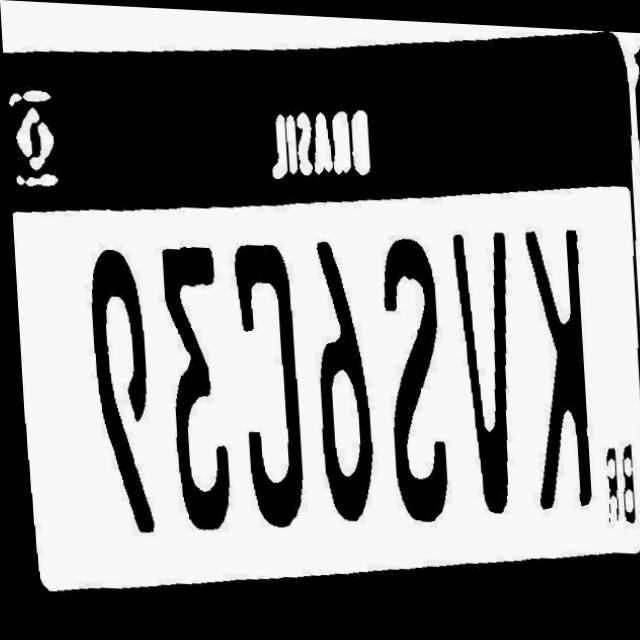3: (149, 225, 230, 536)
6: (305, 226, 375, 527)
9: (85, 212, 164, 534)
c: (224, 226, 314, 532)
k: (511, 234, 599, 535)
s: (372, 221, 457, 528)
v: (450, 231, 527, 523)
